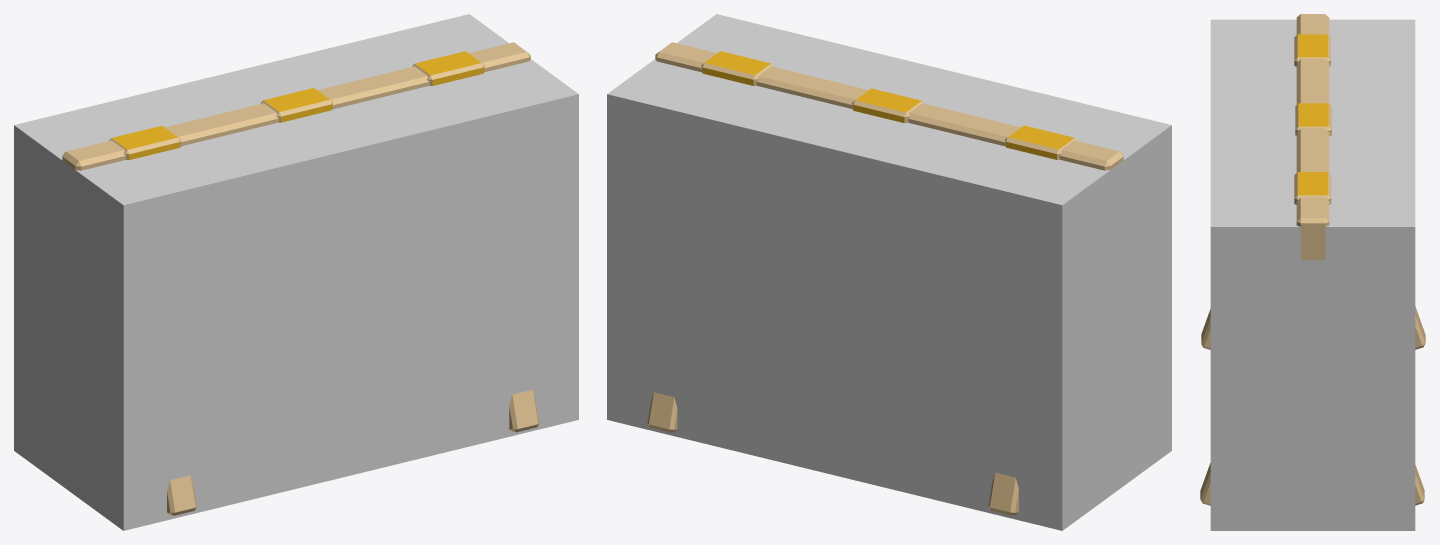
Rendered from prop_sawhorse_a.glb.
3 views of the same model, side by side, from view 1: azimuth 30°, elevation 25°; view 2: azimuth 150°, elevation 25°; view 3: azimuth 270°, elevation 25° (orthographic). The views are drawn at different scales.
Visible parts, largest first — view 1: COL_prop_sawhorse_a_1, prop_sawhorse_a; view 2: COL_prop_sawhorse_a_1, prop_sawhorse_a; view 3: COL_prop_sawhorse_a_1, prop_sawhorse_a.
Part boxes in pixels (x1,y1,x2,y2): COL_prop_sawhorse_a_1: (14, 14, 578, 530); prop_sawhorse_a: (62, 42, 539, 515); COL_prop_sawhorse_a_1: (607, 14, 1171, 530); prop_sawhorse_a: (647, 42, 1123, 515); COL_prop_sawhorse_a_1: (1210, 19, 1415, 530); prop_sawhorse_a: (1200, 14, 1425, 505).
Bounding box in the file's own units: 1.2 × 0.8437 × 0.5503.
